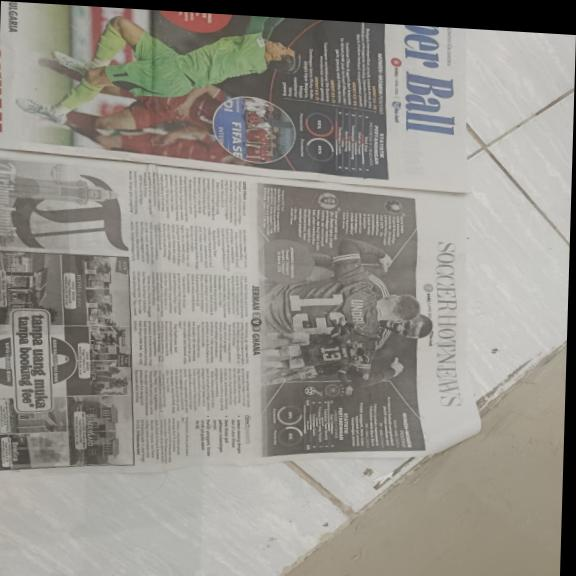Kertas: (12, 163, 467, 489), (156, 10, 400, 180), (0, 0, 160, 157), (260, 371, 422, 464), (382, 23, 470, 184)
